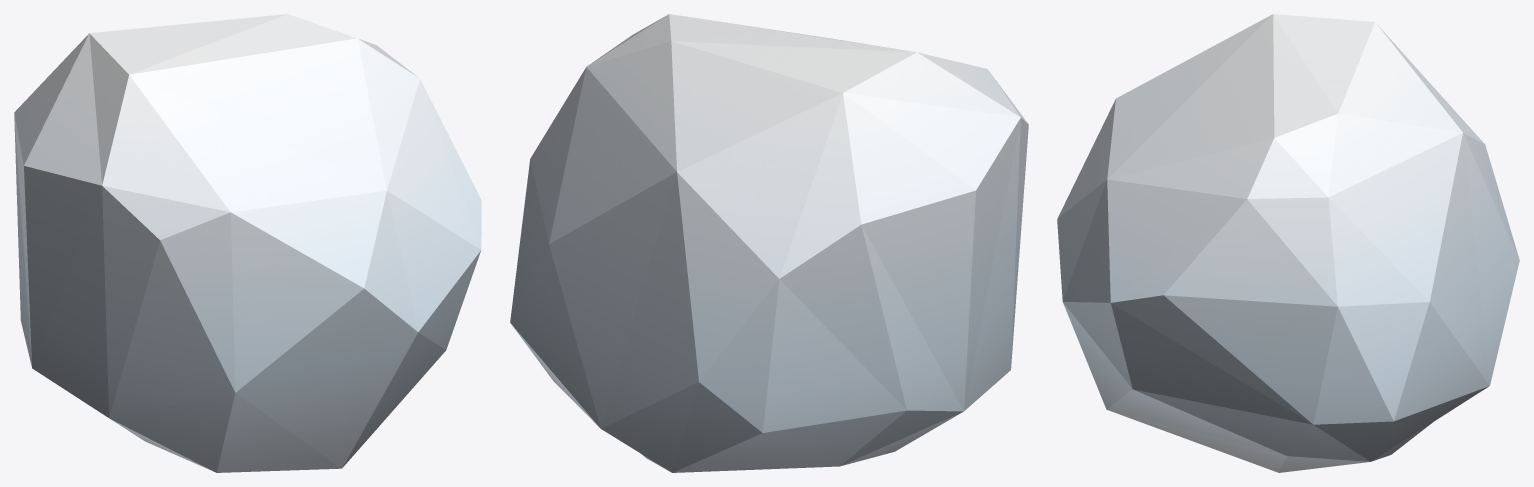
File: Snowy_Stone_004.FBX
3 views of the same model, side by side, from view 1: azimuth 30°, elevation 25°; view 2: azimuth 150°, elevation 25°; view 3: azimuth 270°, elevation 25° (orthographic). The views are drawn at different scales.
Parts seen in each view (by area): view 1: Snowy_Stone_004; view 2: Snowy_Stone_004; view 3: Snowy_Stone_004.
Boxes of the visible parts, <box> form: Snowy_Stone_004: <box>14,14,481,472</box>; Snowy_Stone_004: <box>510,14,1028,472</box>; Snowy_Stone_004: <box>1057,14,1519,472</box>.
Size of the model in its own units: 95.25 by 88.4 by 100.
1 material, 1 textured.
